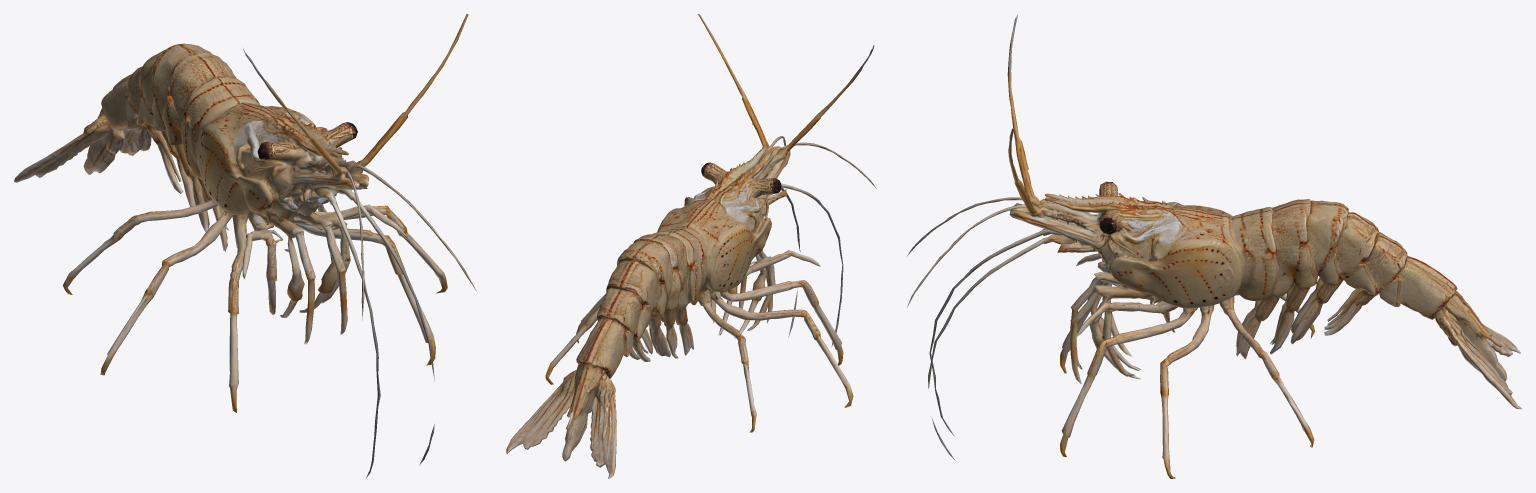
The model's file is shrimp.glb.
The picture shows the model from 3 angles, left to right: view 1: azimuth 30°, elevation 25°; view 2: azimuth 150°, elevation 25°; view 3: azimuth 270°, elevation 25°; orthographic projection. The views are drawn at different scales.
Parts seen in each view (by area): view 1: tripo_node_b6b4b1b5-4458-41b9-8a75-a1d4d8e67663; view 2: tripo_node_b6b4b1b5-4458-41b9-8a75-a1d4d8e67663; view 3: tripo_node_b6b4b1b5-4458-41b9-8a75-a1d4d8e67663.
Boxes of the visible parts, x1,y1,x2,y2 form: tripo_node_b6b4b1b5-4458-41b9-8a75-a1d4d8e67663: (14, 14, 476, 477); tripo_node_b6b4b1b5-4458-41b9-8a75-a1d4d8e67663: (506, 14, 876, 478); tripo_node_b6b4b1b5-4458-41b9-8a75-a1d4d8e67663: (907, 15, 1521, 478).
Size of the model in its own units: 0.582 by 0.6902 by 1.
1 material, 1 textured.
